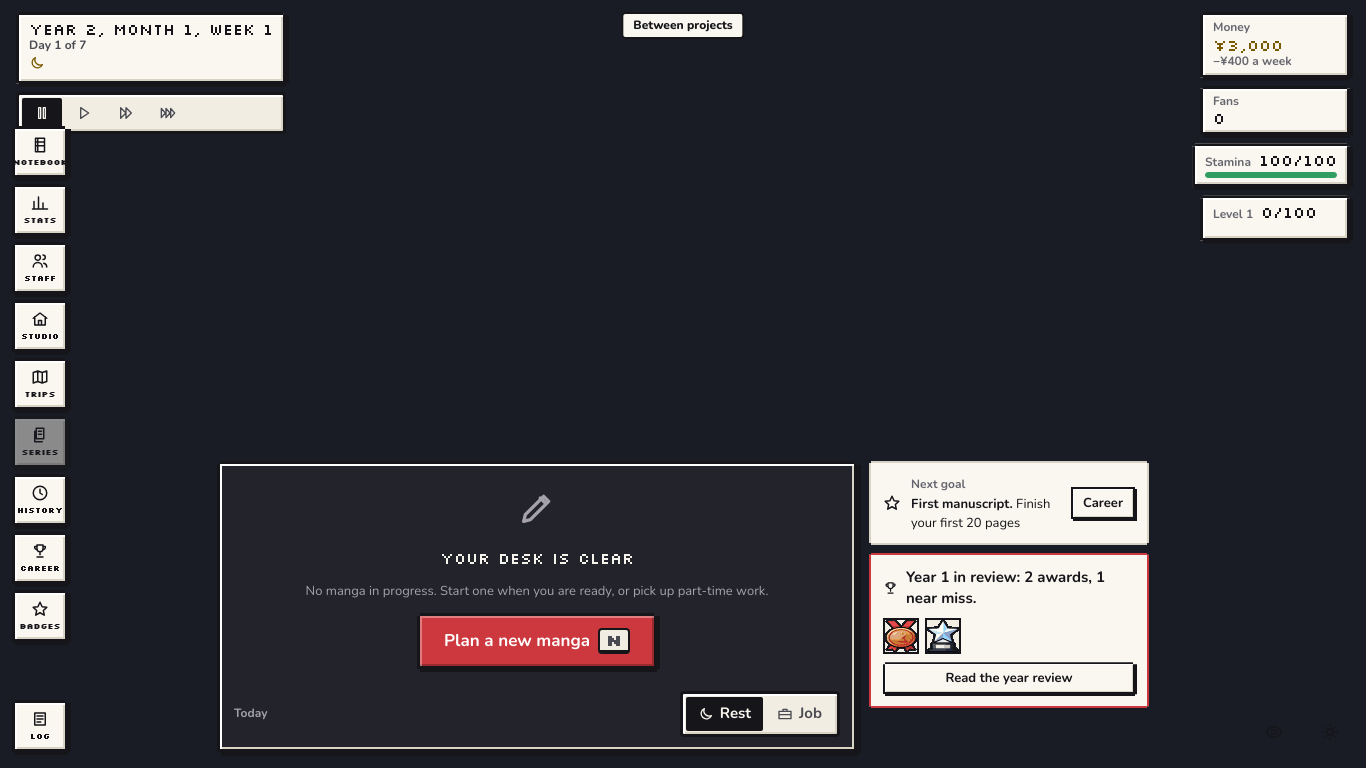
Test case: YearReviewCard › opens the review from the card, and the card leaves the desk once it is read
Click the button "Read the year review" at [1009, 678], box [883,662,1135,694]
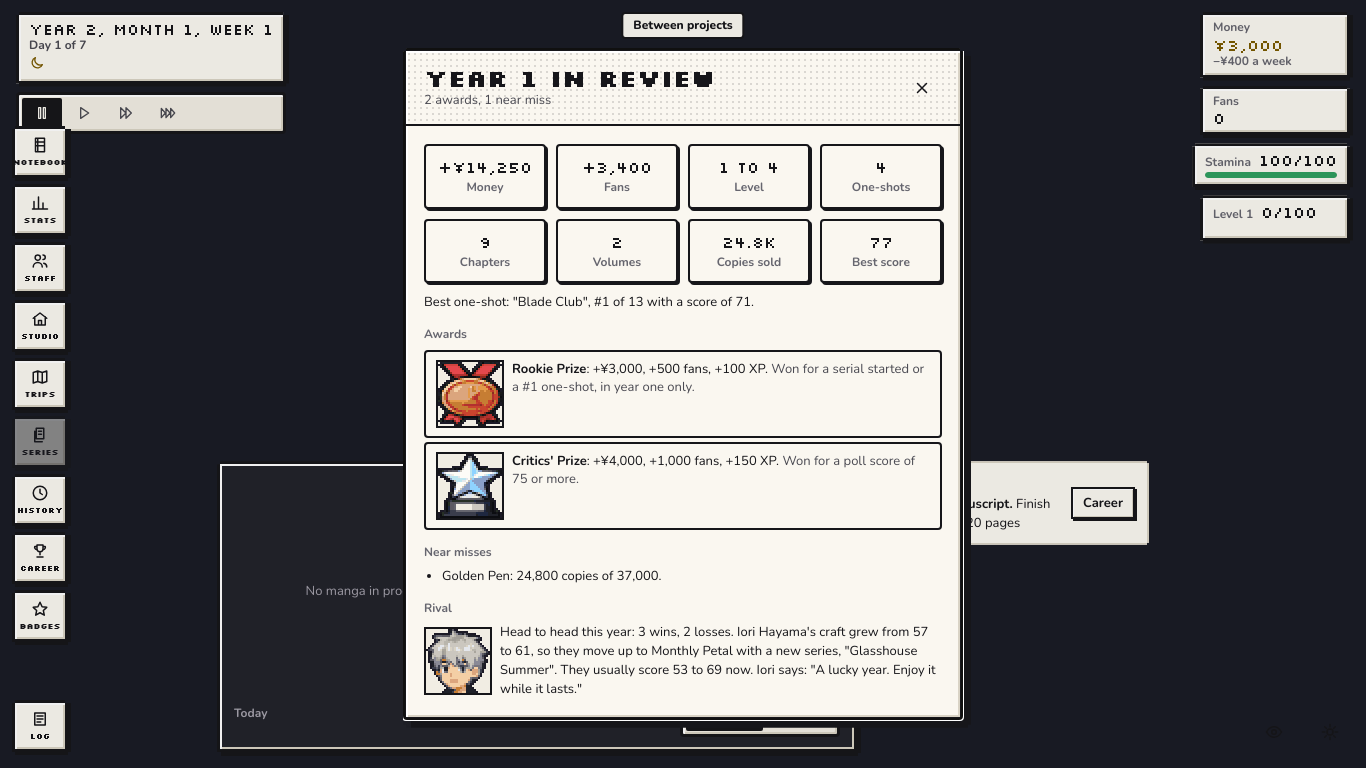
Click the button named "Close" at [922, 88], box [902,68,942,108]
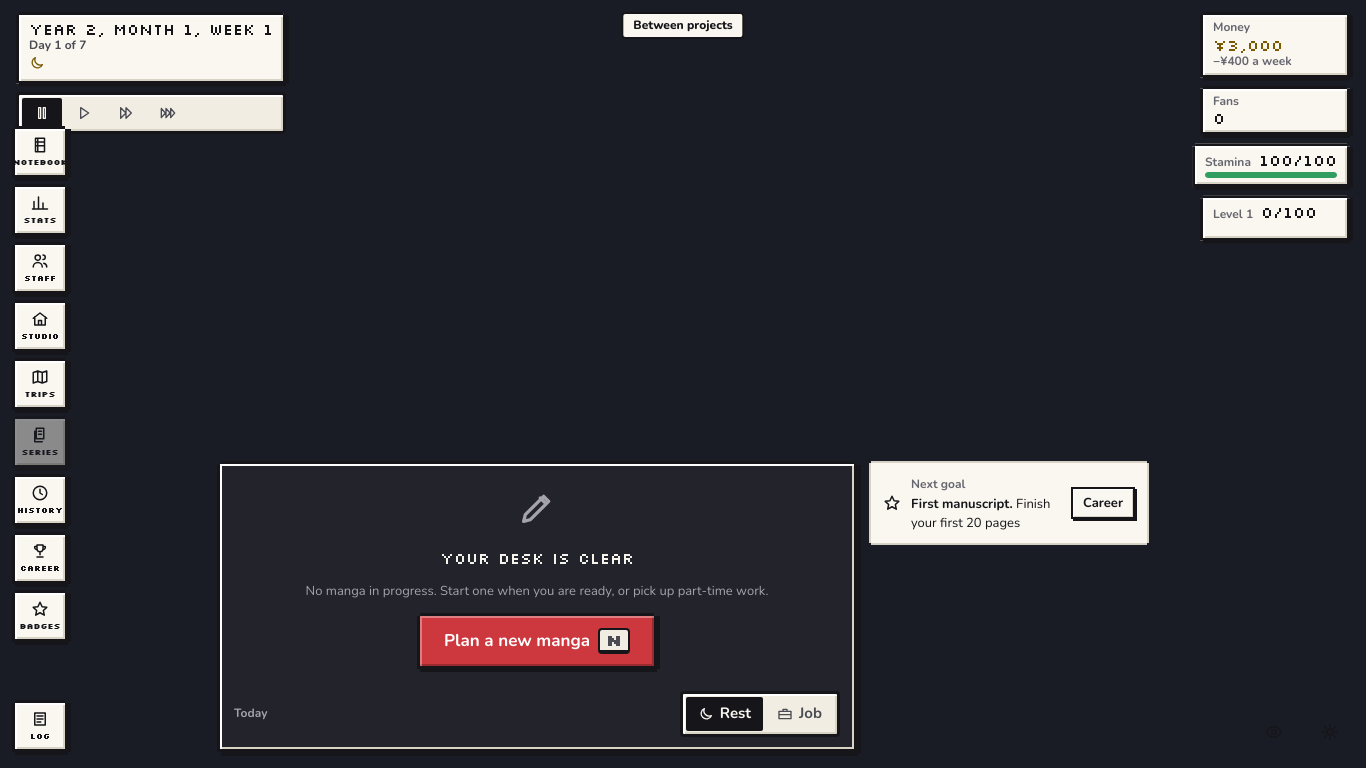
Expected: the text "Year 1 in review: 2 awards, 1 near miss." is not shown
Now the heading "Year 1 in review" is gone
